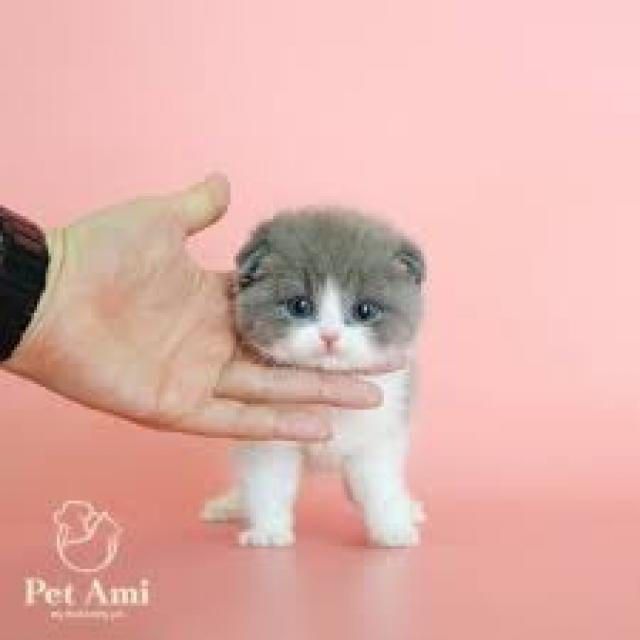cat-face: (200, 177, 441, 414)
